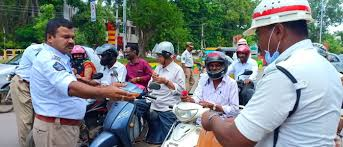helmet: (200, 52, 230, 87), (147, 40, 176, 70), (93, 41, 119, 69)
